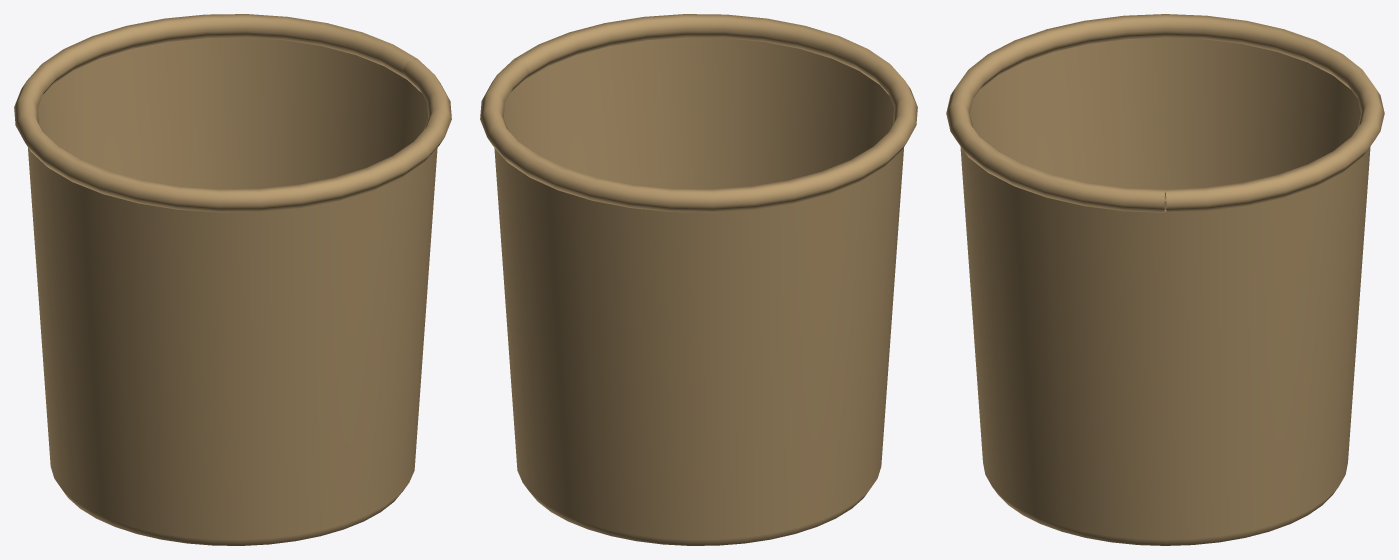
The model's file is HIN-BSK-std.glb.
The picture shows the model from 3 angles, left to right: view 1: azimuth 30°, elevation 25°; view 2: azimuth 150°, elevation 25°; view 3: azimuth 270°, elevation 25°; orthographic projection.
Visible parts, largest first — view 1: HIN-BSK-std; view 2: HIN-BSK-std; view 3: HIN-BSK-std.
Part boxes in pixels (box(x1,y1,x2,y2)): HIN-BSK-std: box(14, 14, 451, 545); HIN-BSK-std: box(480, 14, 917, 545); HIN-BSK-std: box(946, 14, 1384, 545).
Bounding box in the file's own units: 0.4439 × 0.4104 × 0.444.
